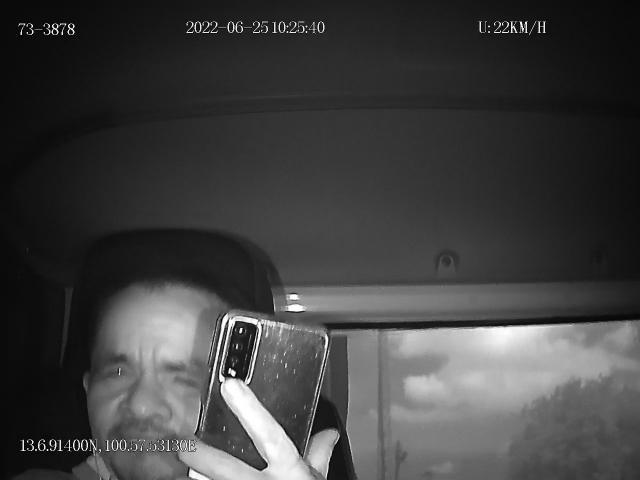PhoneUse: (192, 308, 332, 480)
SafeDriving: (95, 356, 137, 388)
